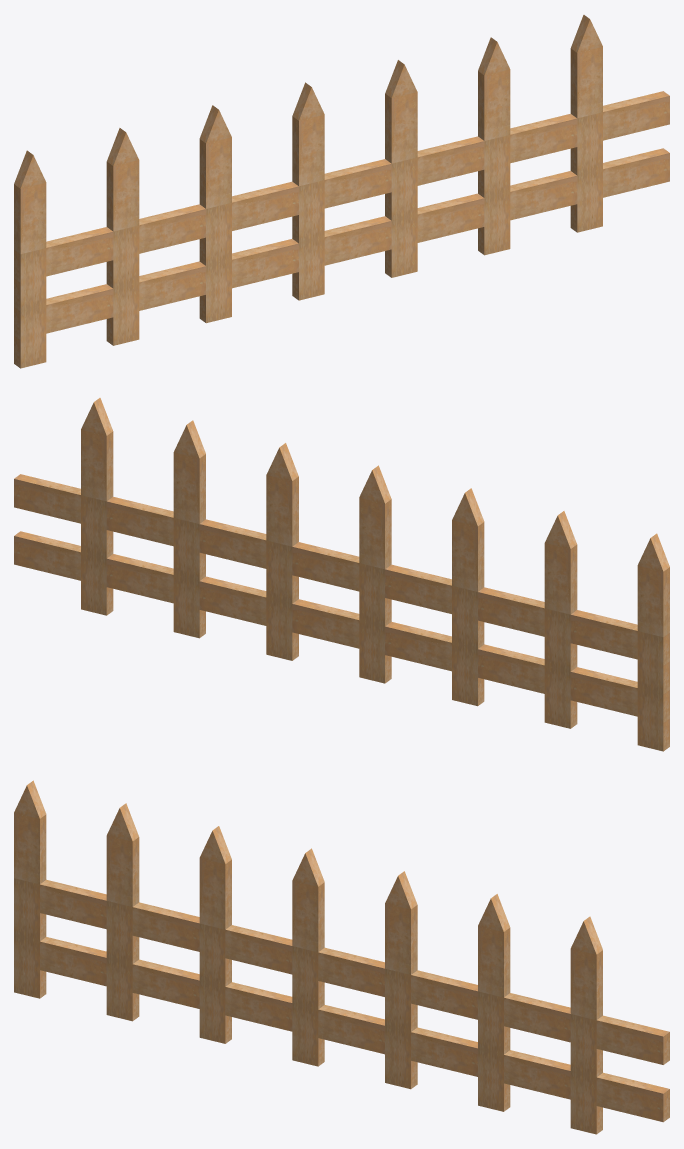
The model's file is wooden fence 2.fbx.
3 renders of one model, top to bottom at view 1: azimuth 30°, elevation 25°; view 2: azimuth 150°, elevation 25°; view 3: azimuth 330°, elevation 25°, orthographic.
Visible parts, largest first — view 1: Plane; view 2: Plane; view 3: Plane.
Boxes of the visible parts, x1,y1,x2,y2 form: Plane: (14,15,669,368); Plane: (14,398,669,751); Plane: (14,780,669,1134).
Bounding box in the file's own units: 5010 × 1551 × 87.
Materials: 1 (1 with a texture image).
